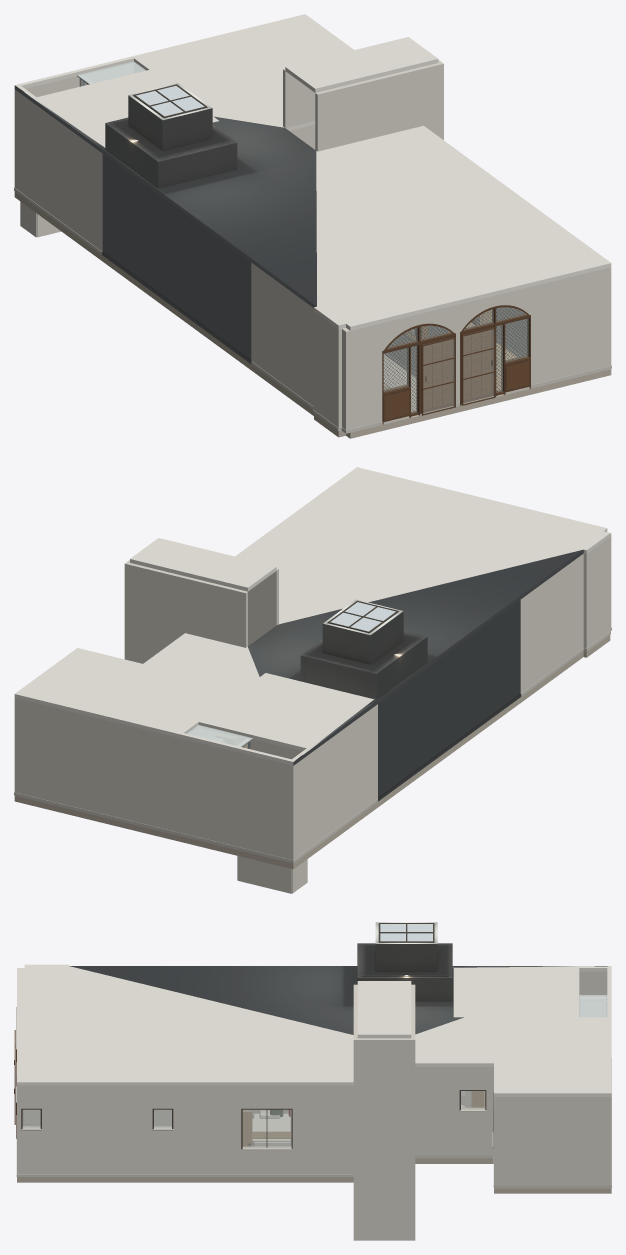
The picture shows the model from 3 angles, top to bottom: view 1: azimuth 30°, elevation 25°; view 2: azimuth 150°, elevation 25°; view 3: azimuth 270°, elevation 25°; orthographic projection. The views are drawn at different scales.
Parts seen in each view (by area): view 1: quality_5, quality_7, quality_architecture, quality_79, quality_13, quality_0, quality_81, quality_80, quality_8, quality_42, quality_60; view 2: quality_5, quality_7, quality_architecture, quality_0, quality_8, quality_42, quality_60; view 3: quality_7, quality_5, quality_architecture, quality_0, quality_8, quality_10, quality_9, quality_11, quality_15, quality_42, quality_60, quality_12.
Boxes of the visible parts, x1=… form: quality_5: x1=15, y1=14, x2=611, y2=330; quality_7: x1=14, y1=60, x2=611, y2=433; quality_architecture: x1=14, y1=83, x2=316, y2=363; quality_79: x1=384, y1=307, x2=528, y2=413; quality_13: x1=382, y1=305, x2=530, y2=424; quality_0: x1=14, y1=191, x2=611, y2=438; quality_81: x1=385, y1=331, x2=528, y2=420; quality_80: x1=383, y1=307, x2=529, y2=413; quality_8: x1=14, y1=187, x2=611, y2=433; quality_42: x1=136, y1=86, x2=204, y2=116; quality_60: x1=77, y1=61, x2=145, y2=84; quality_5: x1=14, y1=467, x2=610, y2=765; quality_7: x1=14, y1=532, x2=611, y2=893; quality_architecture: x1=248, y1=549, x2=583, y2=801; quality_0: x1=14, y1=635, x2=610, y2=869; quality_8: x1=14, y1=627, x2=611, y2=863; quality_42: x1=330, y1=602, x2=395, y2=631; quality_60: x1=187, y1=725, x2=252, y2=746; quality_7: x1=17, y1=971, x2=611, y2=1240; quality_5: x1=17, y1=964, x2=611, y2=1096; quality_architecture: x1=69, y1=922, x2=607, y2=1034; quality_0: x1=17, y1=1158, x2=611, y2=1193; quality_8: x1=16, y1=1058, x2=611, y2=1187; quality_10: x1=243, y1=1110, x2=291, y2=1147; quality_9: x1=14, y1=923, x2=493, y2=1148; quality_11: x1=23, y1=1091, x2=484, y2=1127; quality_15: x1=252, y1=1110, x2=290, y2=1146; quality_42: x1=380, y1=924, x2=432, y2=941; quality_60: x1=579, y1=995, x2=607, y2=1017; quality_12: x1=242, y1=1091, x2=484, y2=1146.
Bounding box in the file's own units: 9.08 × 6.9 × 17.81.
Materials: 89 (4 with a texture image).
